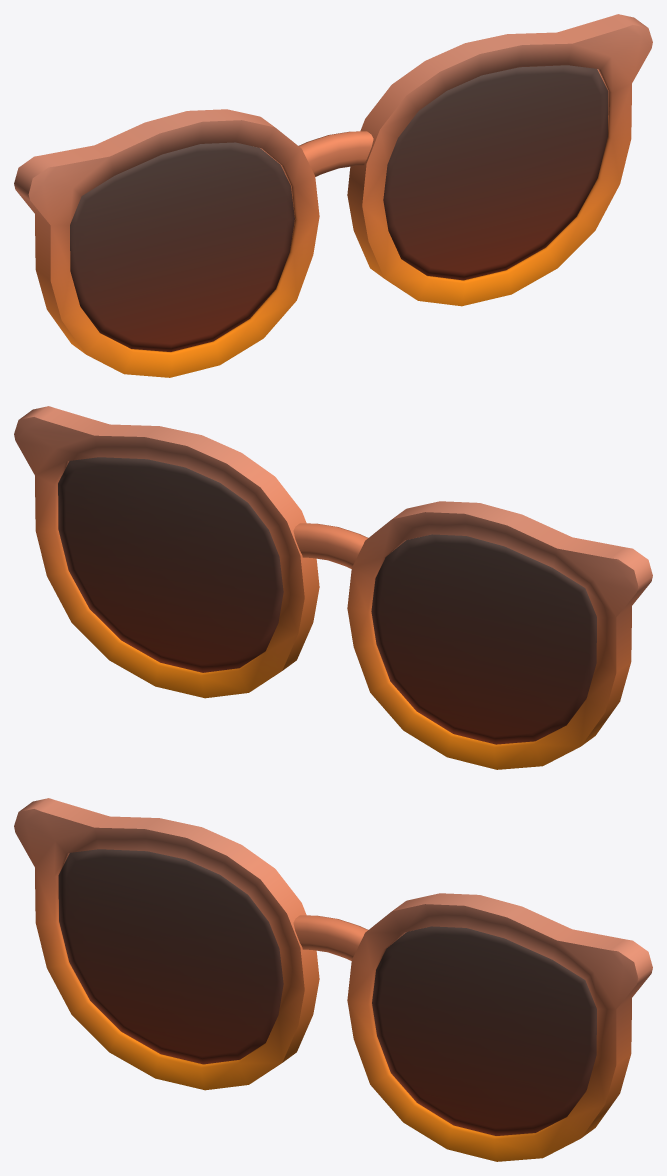
File: Glasses_19.glb
3 renders of one model, top to bottom at view 1: azimuth 30°, elevation 25°; view 2: azimuth 150°, elevation 25°; view 3: azimuth 330°, elevation 25°, orthographic.
Visible parts, largest first — view 1: Glasses_19; view 2: Glasses_19; view 3: Glasses_19.
Part boxes in pixels (x1,y1,x2,y2): Glasses_19: (14,14,652,377); Glasses_19: (14,406,652,769); Glasses_19: (14,798,652,1161).
Bounding box in the file's own units: 0.4869 × 0.185 × 0.0238.
Materials: 1 (1 with a texture image).
